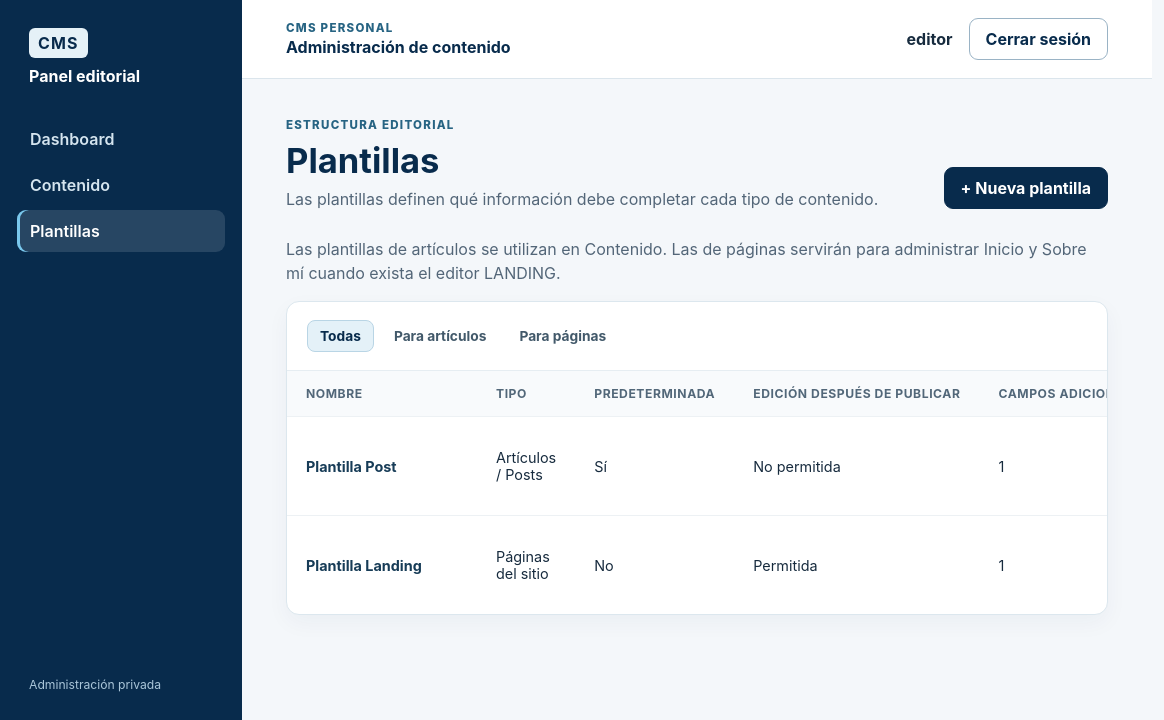
Test case: Gestión de Templates › lista tipos con nombres comprensibles, propiedades y filtros del backend
The width and height of the screenshot is (1164, 720).
Expected: the text "Plantilla Post" is shown, [287,416,477,516]
Expected: the text "Plantilla Landing" is shown, [287,516,477,614]
Click the button "Para artículos" at (440, 336), box [381,320,499,352]
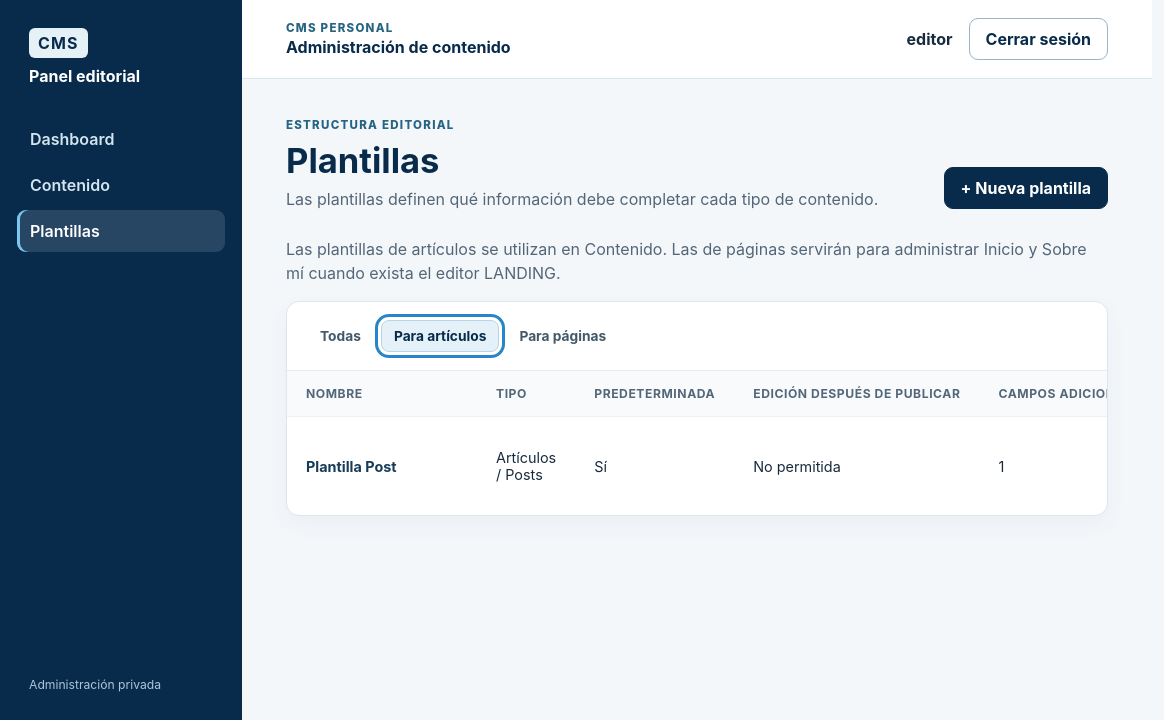
Result: the text "Plantilla Landing" is gone
Click the button "Para páginas" at (563, 336), box [506,320,619,352]
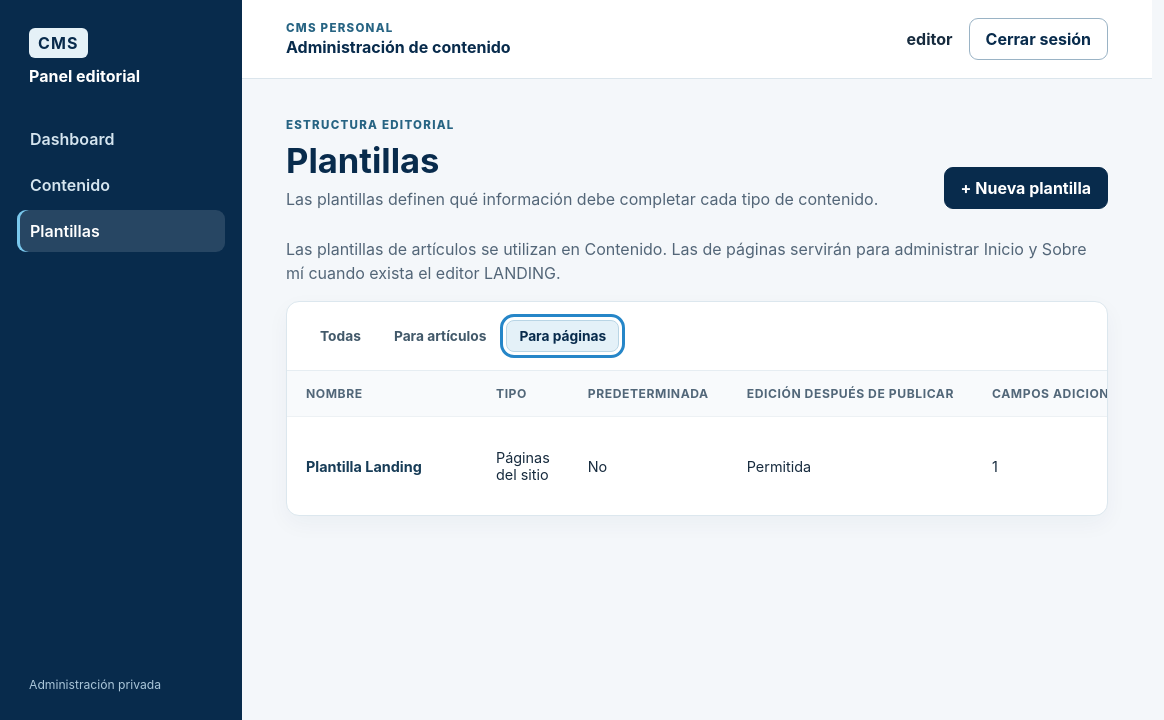
Result: the text "Plantilla Post" is gone
